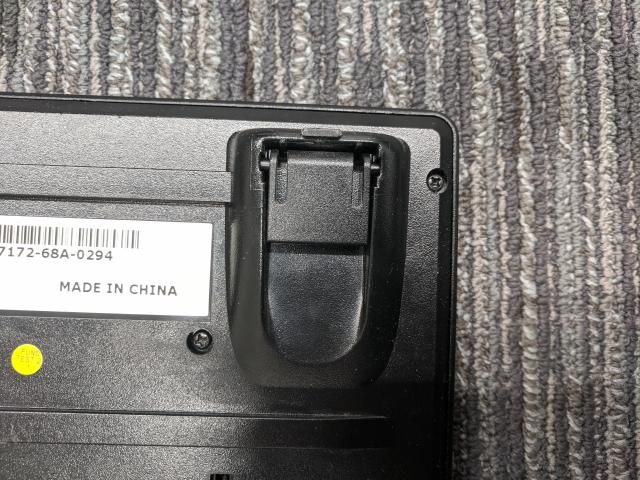CRS: (188, 328, 213, 351), (427, 170, 448, 193)
